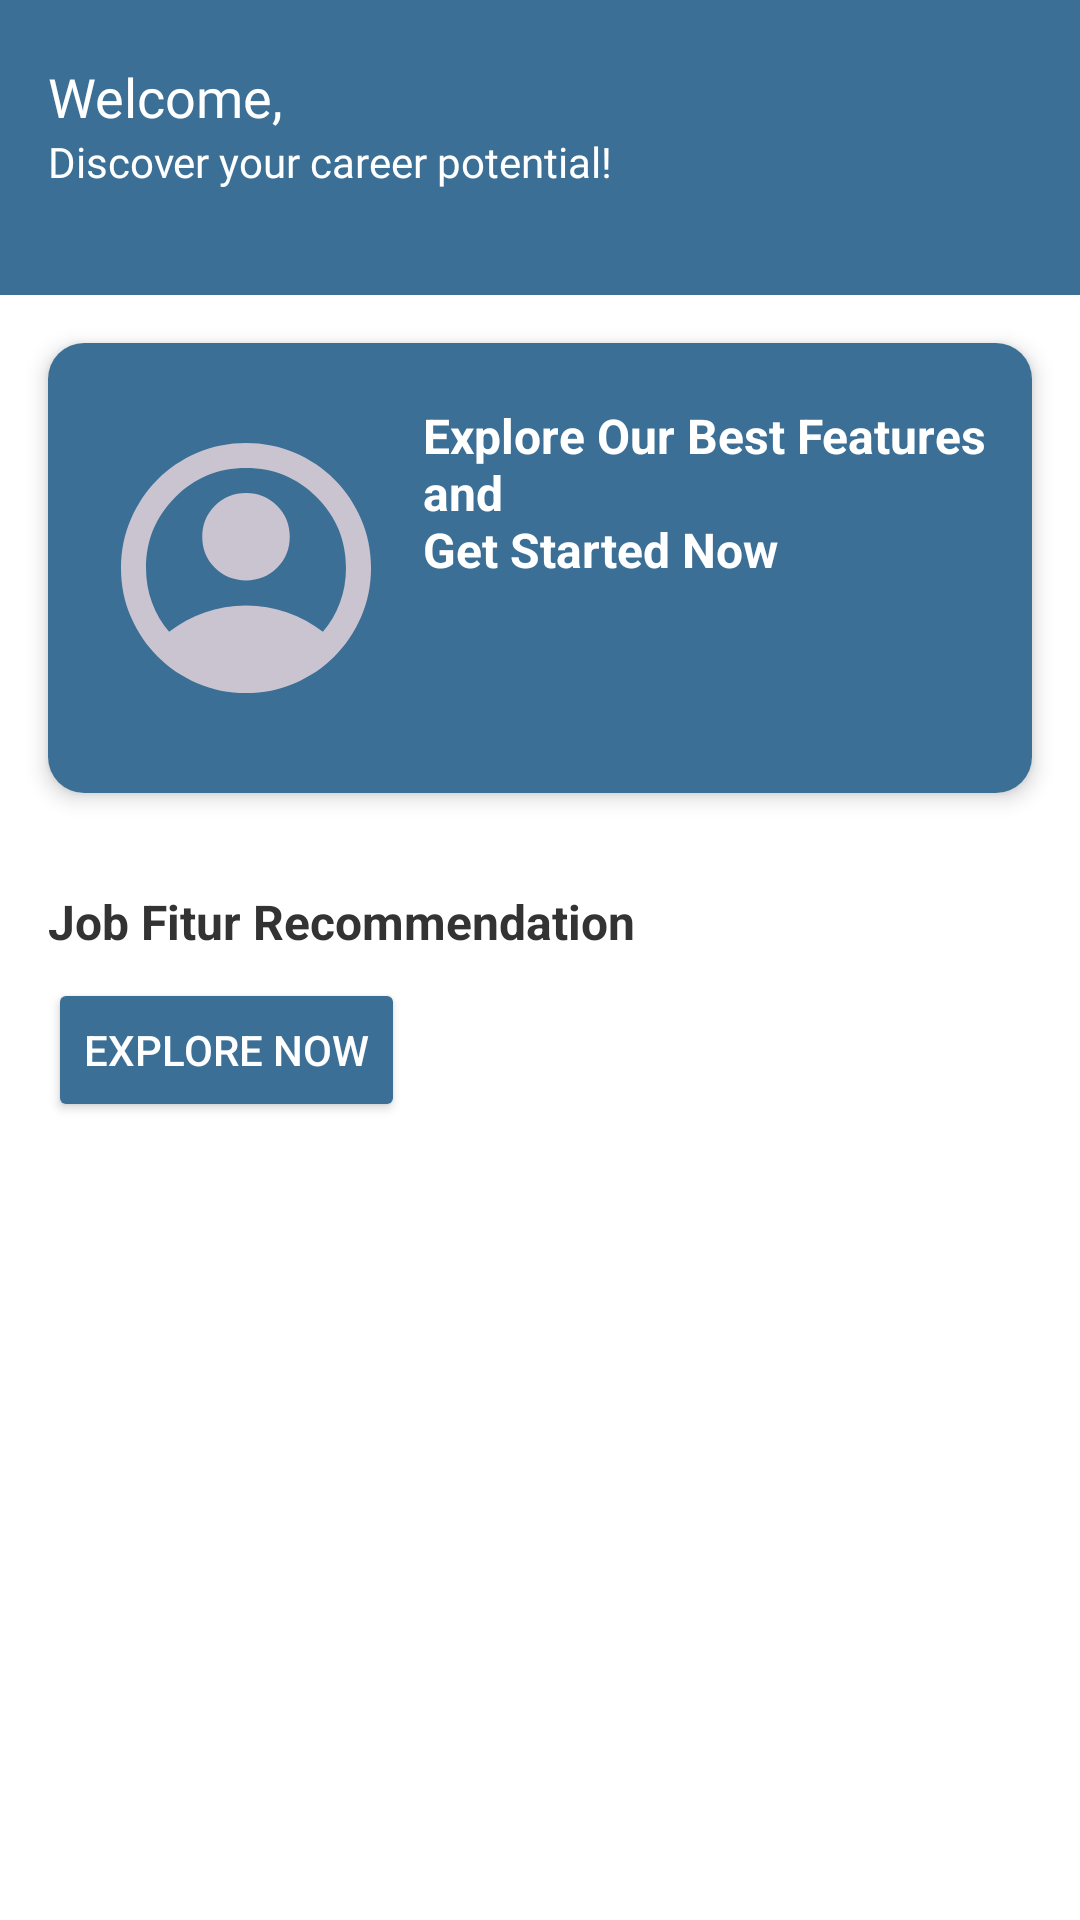

Named icons in this screenshot (1080px×1920px) and their centers, (x=x, y=y):
Profile Image: (x=246, y=568)
